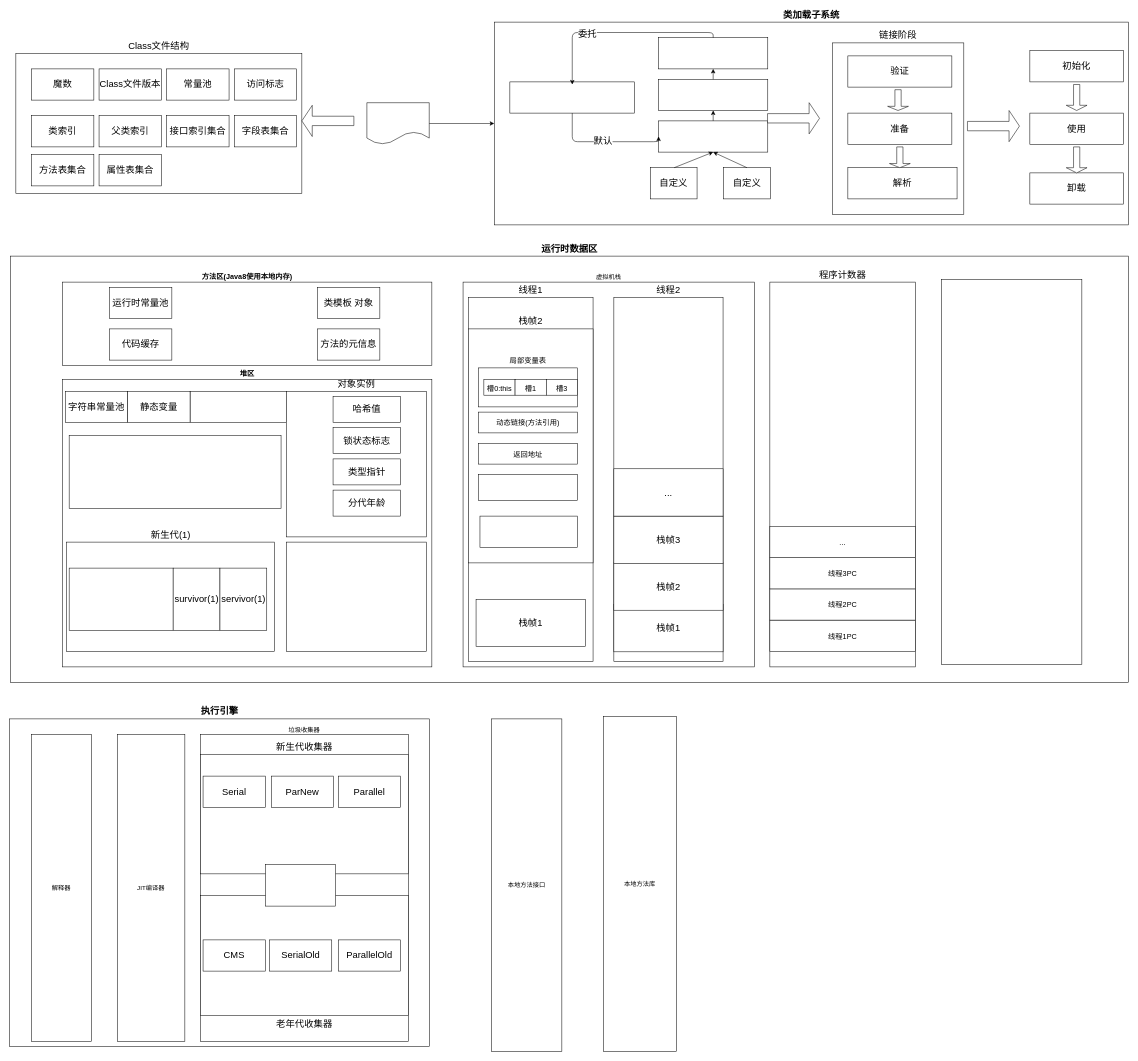
This 1138x1061 diagram has some shape labels left out. The centre of each missing label's shape, as x and y in pixels:
"ApplicationClassLoader" belongs at (713,136).
"BootstrapClassLoader" belongs at (713,53).
"Class实例" belongs at (175,471).
"Class文件" belongs at (397,123).
"Eden(8)" belongs at (121,599).
"ExtensionClassLoader" belongs at (713,94).
"G1" belongs at (300,885).
"ThreadContextClassLoader" belongs at (572,97).
"TLAB" belongs at (238,406).
"操作数栈" belongs at (527,487).
"本地方法栈" belongs at (1011,471).
"老年代(2)" belongs at (356,596).
"附加信息" belongs at (528,531).
